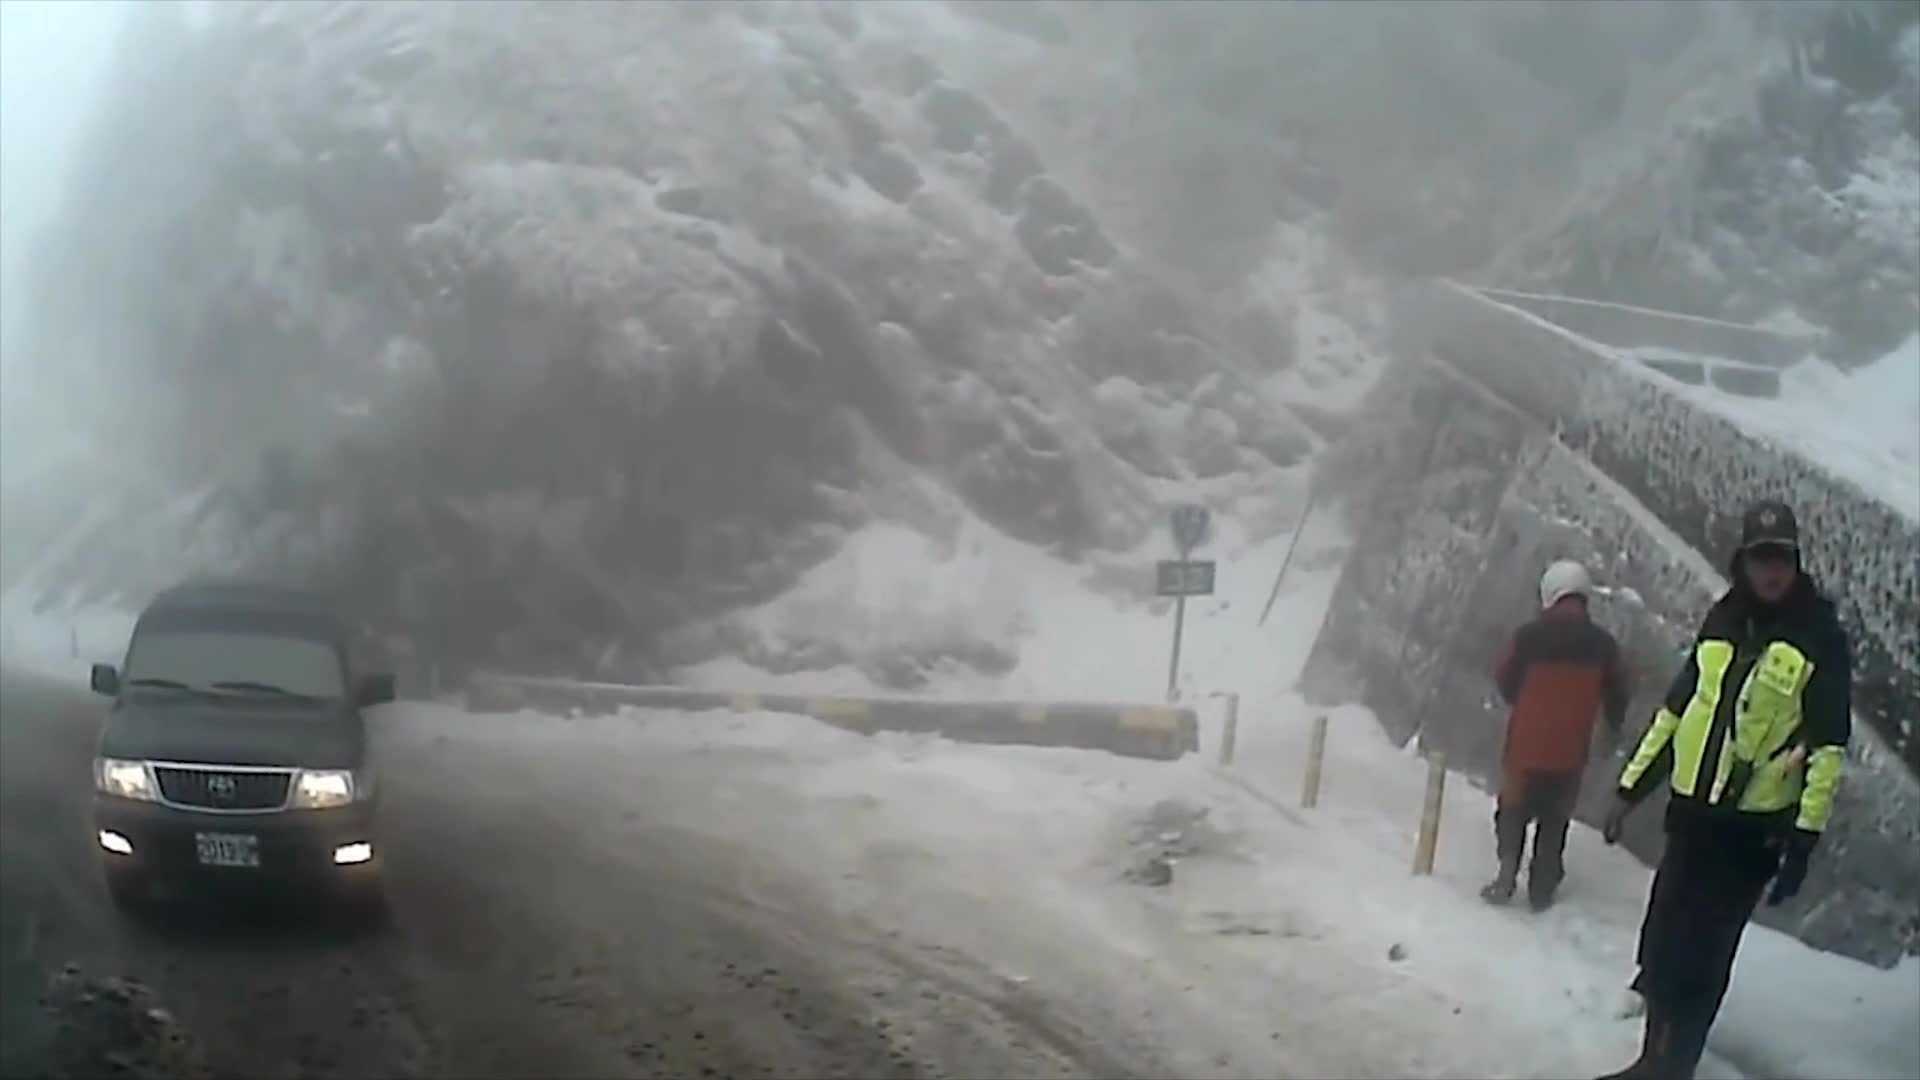pedestrian: (1590, 501, 1850, 1080), (1475, 559, 1631, 918)
vehicle: (87, 583, 394, 931)
